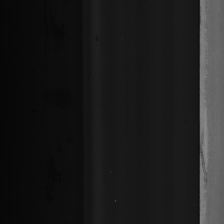water_spot: (200, 130, 215, 190)
